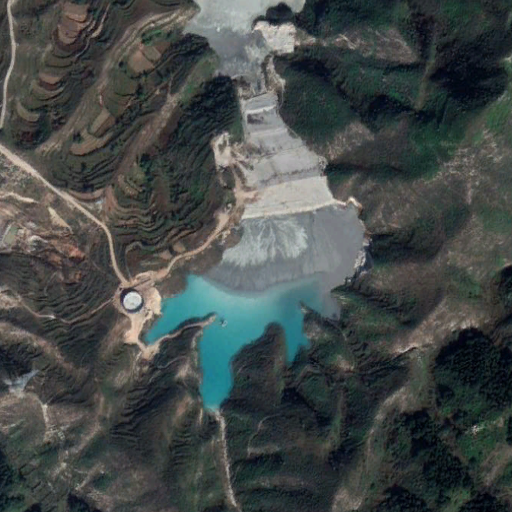tp: (141, 93, 369, 408)
